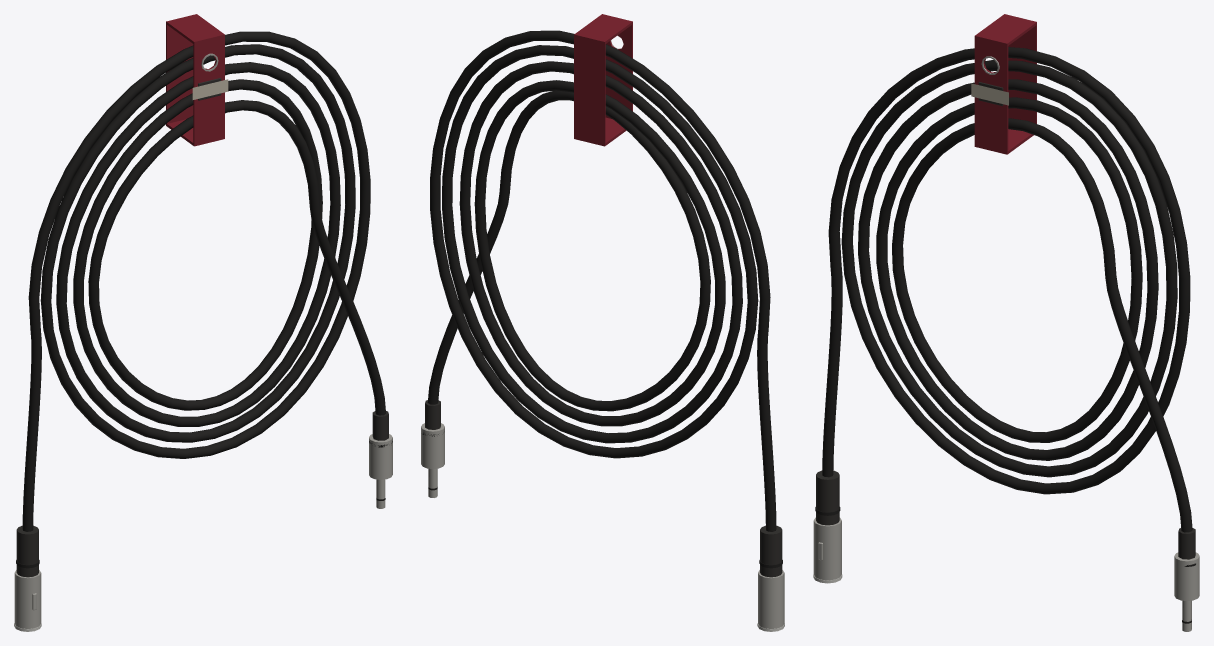
File: cable-coil-large-loose-ad76720ffac4.glb
3 views of the same model, side by side, from view 1: azimuth 30°, elevation 25°; view 2: azimuth 150°, elevation 25°; view 3: azimuth 330°, elevation 25° (orthographic). The views are drawn at different scales.
Visible parts, largest first — view 1: rubber, accent-crimson, brushed, plastic-dark; view 2: rubber, accent-crimson, brushed, plastic-dark; view 3: rubber, accent-crimson, brushed, plastic-dark.
Part boxes in pixels (bbox=[...]): rubber: bbox=[16, 31, 392, 568]; accent-crimson: bbox=[166, 14, 224, 146]; brushed: bbox=[14, 53, 392, 628]; plastic-dark: bbox=[16, 78, 388, 577]; rubber: bbox=[422, 30, 782, 568]; accent-crimson: bbox=[574, 14, 632, 146]; brushed: bbox=[421, 40, 784, 628]; plastic-dark: bbox=[425, 400, 782, 577]; rubber: bbox=[815, 47, 1195, 623]; accent-crimson: bbox=[974, 14, 1036, 154]; brushed: bbox=[813, 56, 1199, 631]; plastic-dark: bbox=[816, 82, 1195, 559].
Bounding box in the file's own units: 0.2874 × 0.416 × 0.0391.
